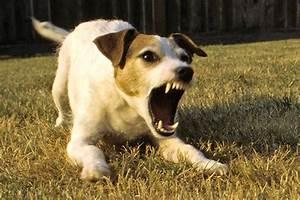dog: (29, 15, 229, 184)
